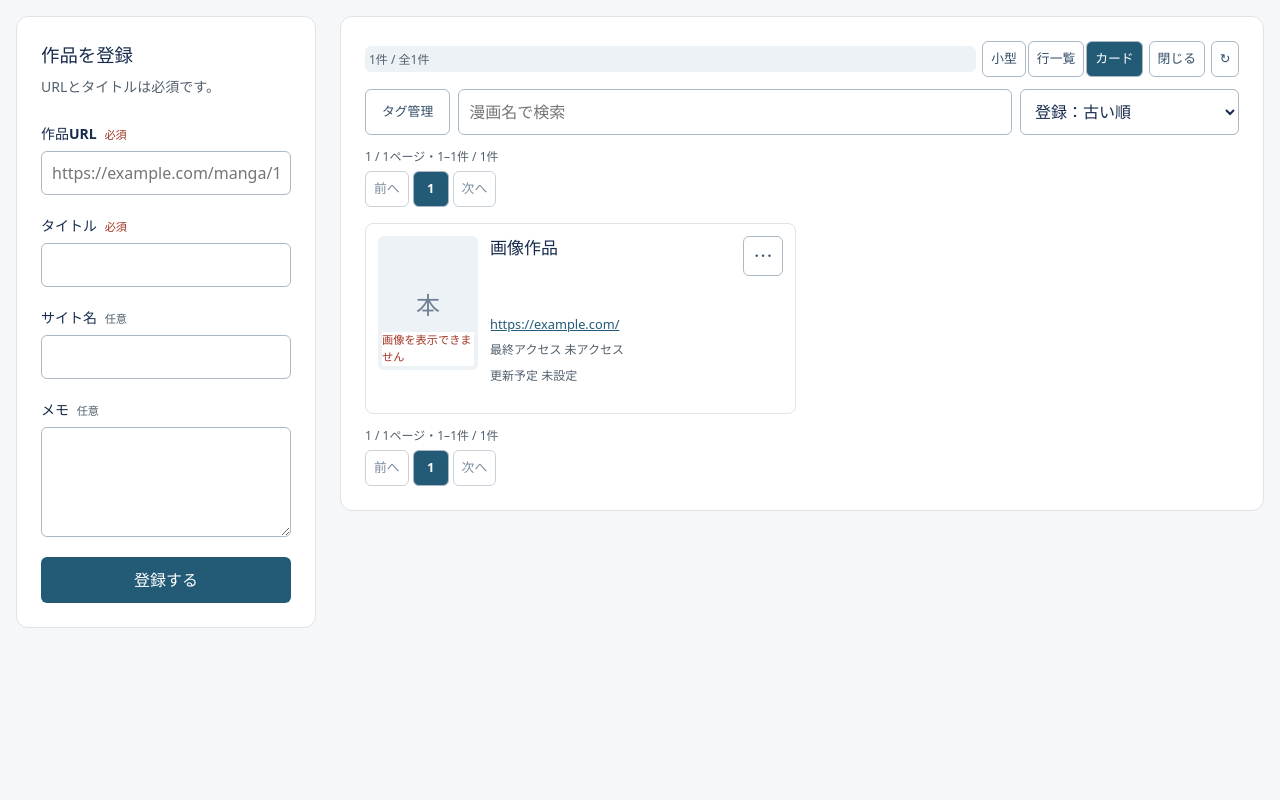
it: 整理API完了後に画像取得を開始し、一覧再読み込み成功後に取得をやり直す
The width and height of the screenshot is (1280, 800).
Expected: the heading "画像作品" is shown, [490,236,558,259]
Expected: the text "画像を表示できません" is shown, [382,332,474,366]
Click the button named "再読み込み" at x=1225, y=59, box [1211,41,1239,77]
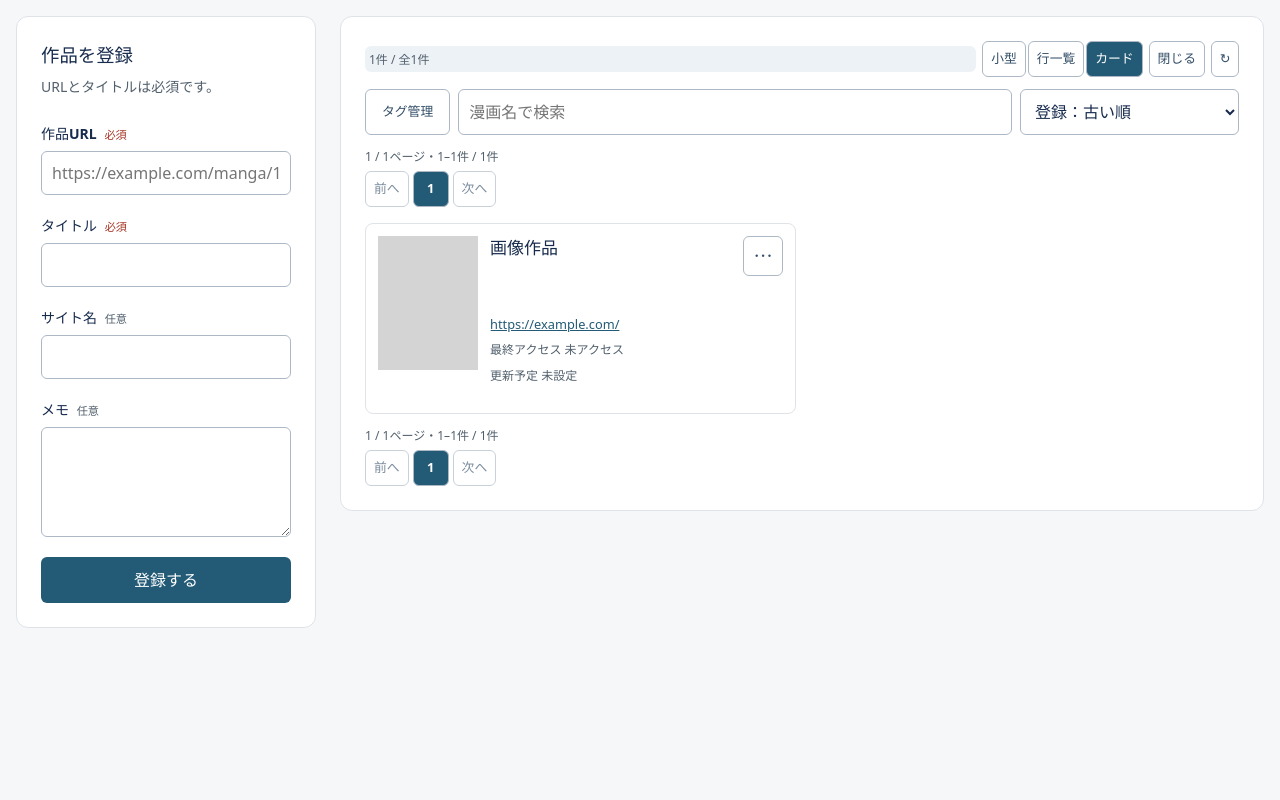
Now the text "画像を表示できません" is gone
